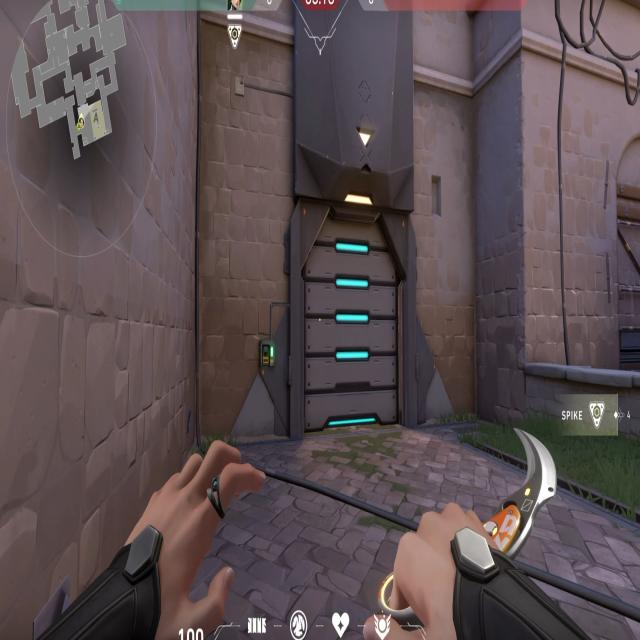A_Door: (286, 177, 415, 456)
